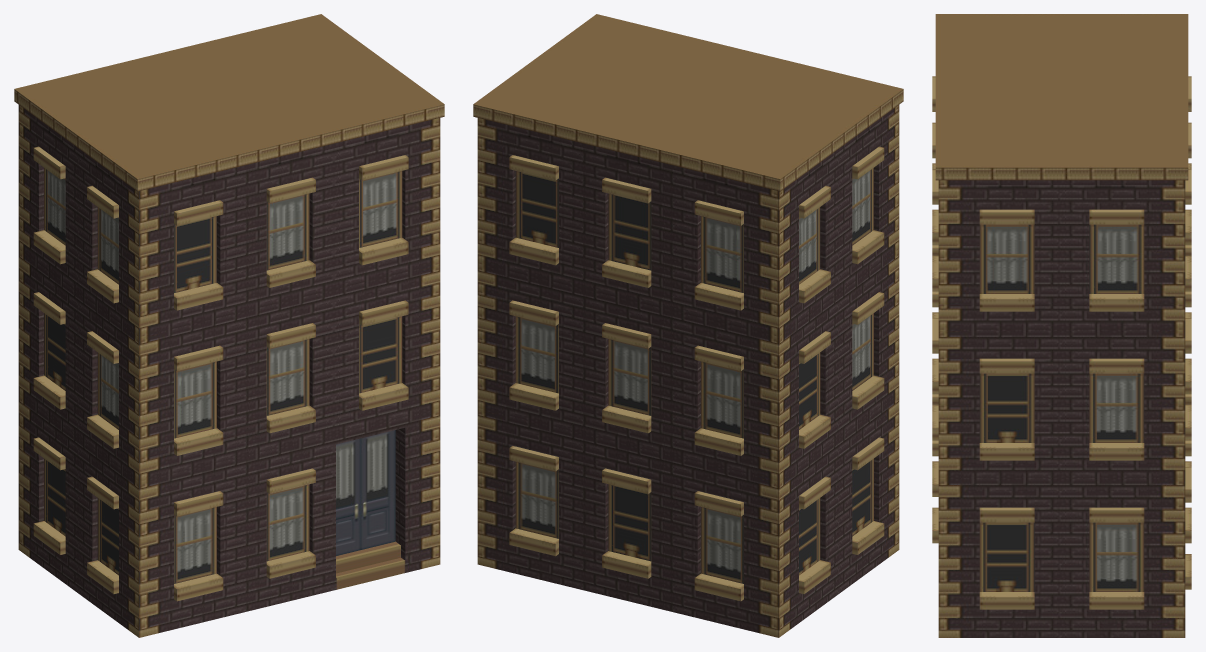
Rendered from BuildingJ1.fbx.
3 renders of one model, left to right at view 1: azimuth 30°, elevation 25°; view 2: azimuth 150°, elevation 25°; view 3: azimuth 270°, elevation 25°, orthographic. The views are drawn at different scales.
Visible parts, largest first — view 1: building; view 2: building; view 3: building.
Part boxes in pixels (bbox=[...]): building: bbox=[14, 14, 444, 637]; building: bbox=[473, 14, 903, 637]; building: bbox=[932, 14, 1191, 637].
Bounding box in the file's own units: 26.91 × 38.01 × 18.91.
Materials: 1 (1 with a texture image).
